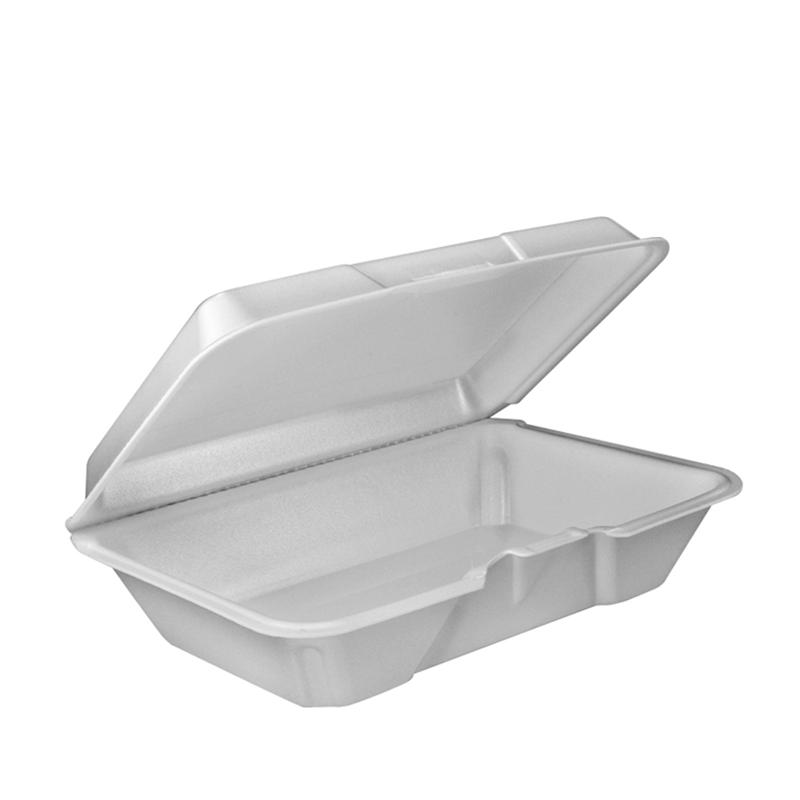styrofoam: (66, 209, 747, 711)
